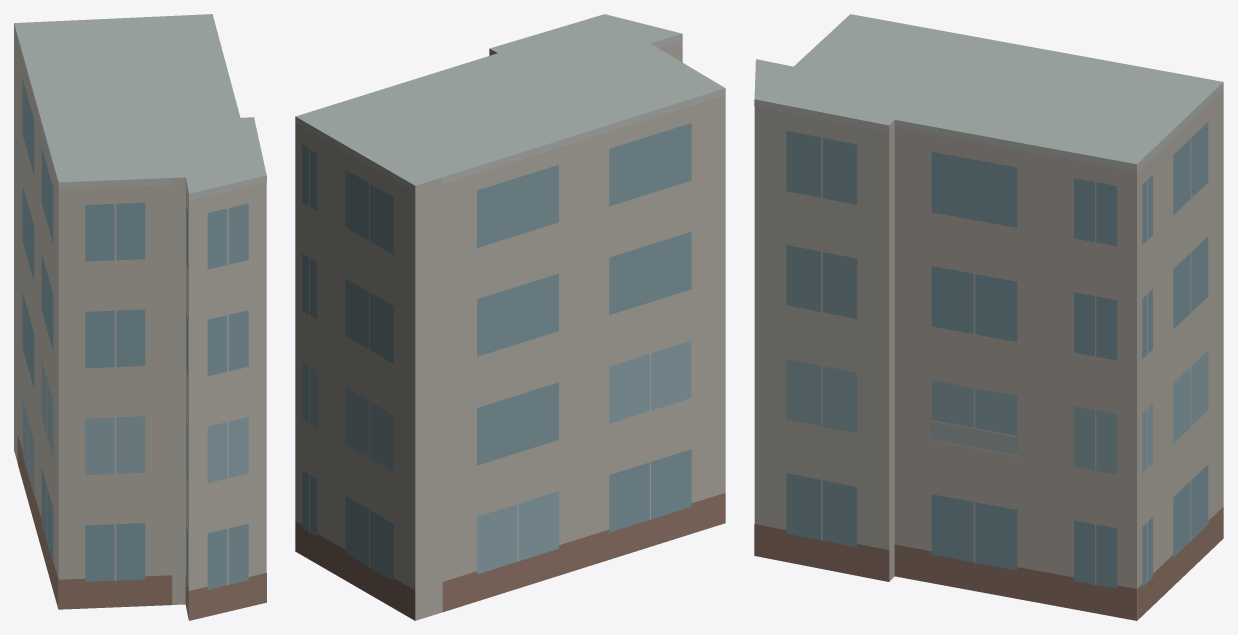
File: survey-upis-32475837.glb
3 renders of one model, left to right at view 1: azimuth 30°, elevation 25°; view 2: azimuth 150°, elevation 25°; view 3: azimuth 270°, elevation 25°, orthographic. The views are drawn at different scales.
Visible parts, largest first — view 1: survey-upis-32475837.tmp; view 2: survey-upis-32475837.tmp; view 3: survey-upis-32475837.tmp.
Part boxes in pixels (left/top/right/bottom): survey-upis-32475837.tmp: left=14, top=14, right=266, bottom=620; survey-upis-32475837.tmp: left=295, top=14, right=725, bottom=620; survey-upis-32475837.tmp: left=754, top=14, right=1223, bottom=620.
Bounding box in the file's own units: 10.6 × 15 × 13.98.
